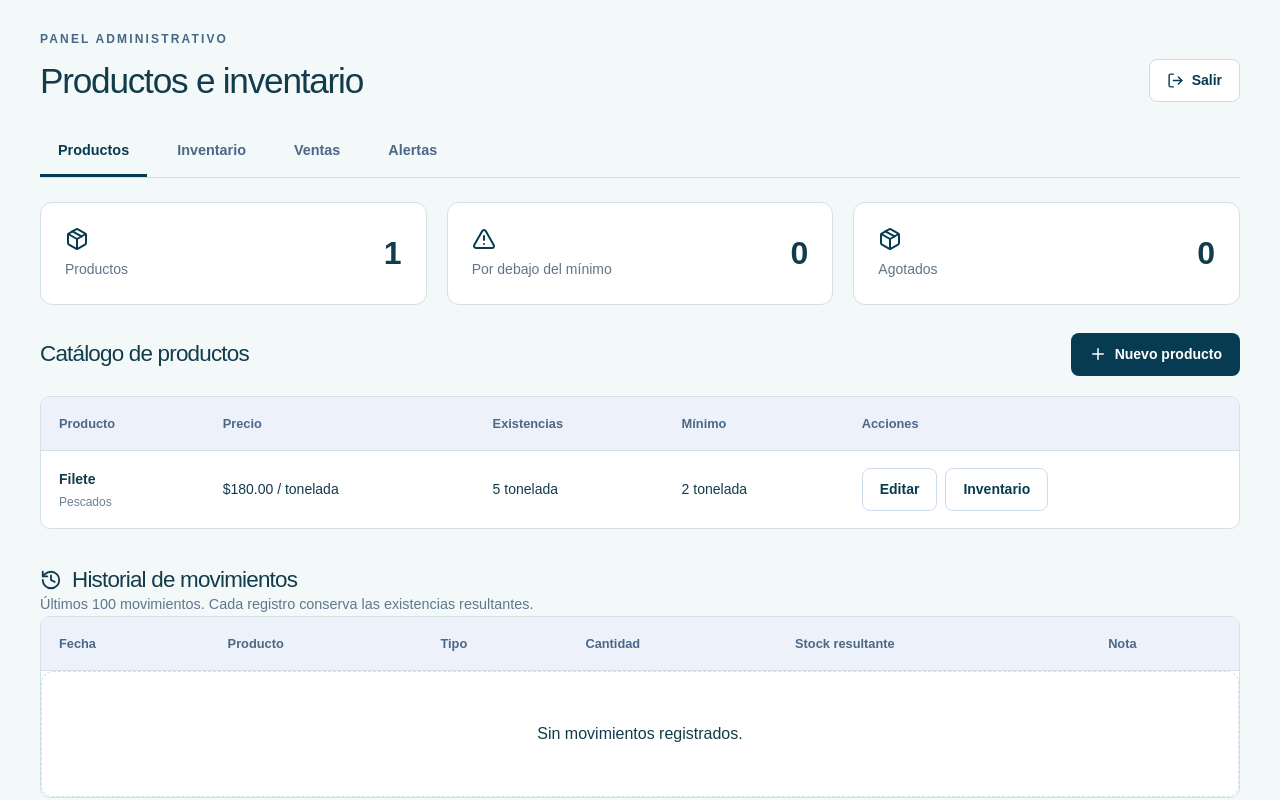
Test case: Acceso e interacción del inventario › permite abrir Inventario desde la navegación administrativa
Expected: the button "Inventario" is shown, [945,468,1048,511]
Click the link "Inventario" at (212, 150), box [177,142,246,158]
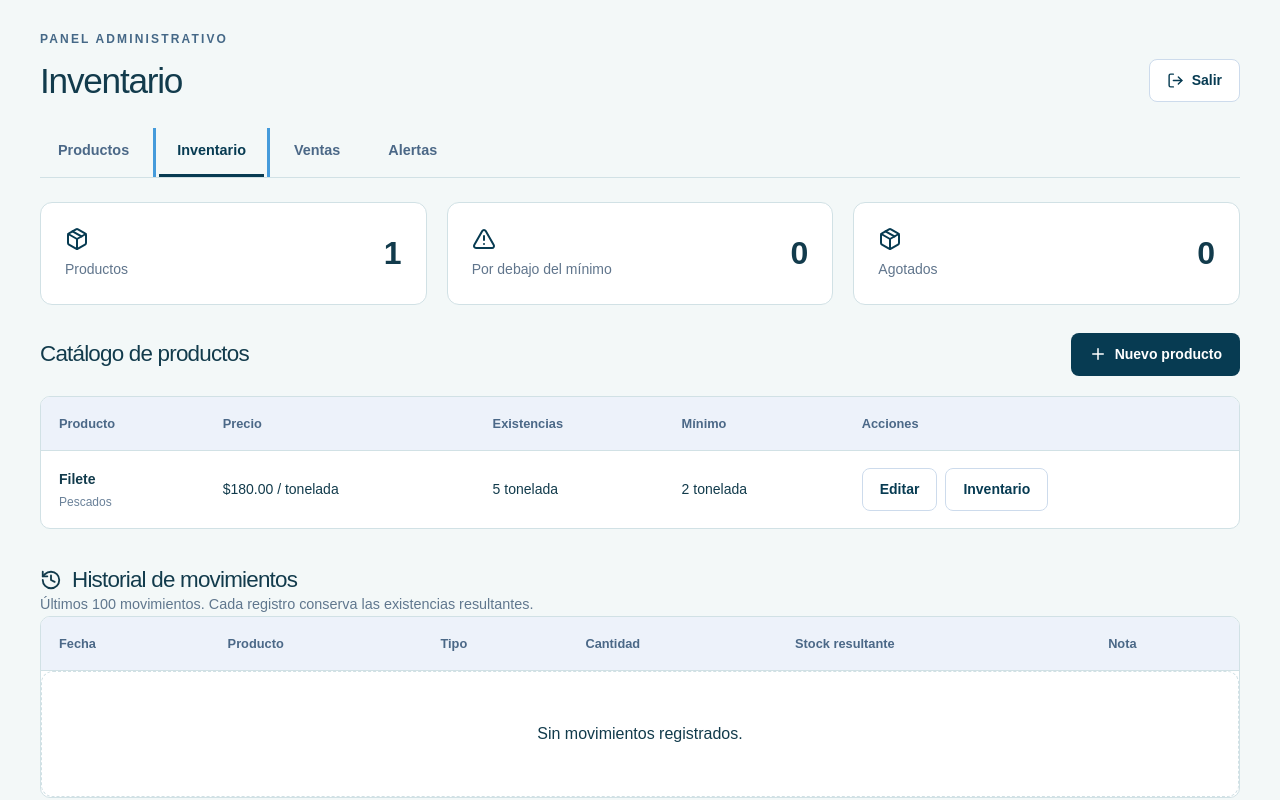
Expected: the heading "Inventario" is shown, [40,61,182,100]
Click the button "Inventario" at (997, 490), box [945,468,1048,511]
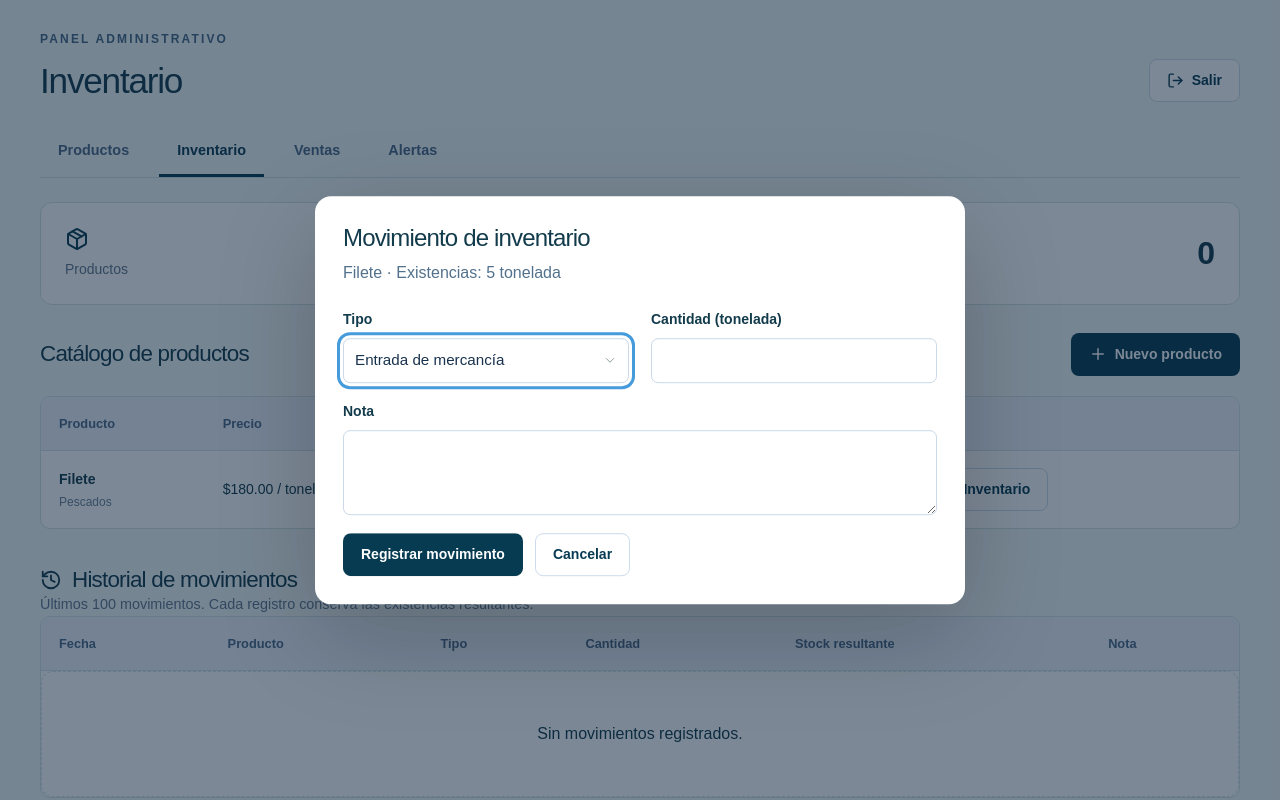
Now the dialog is shown, box [315,196,965,604]
